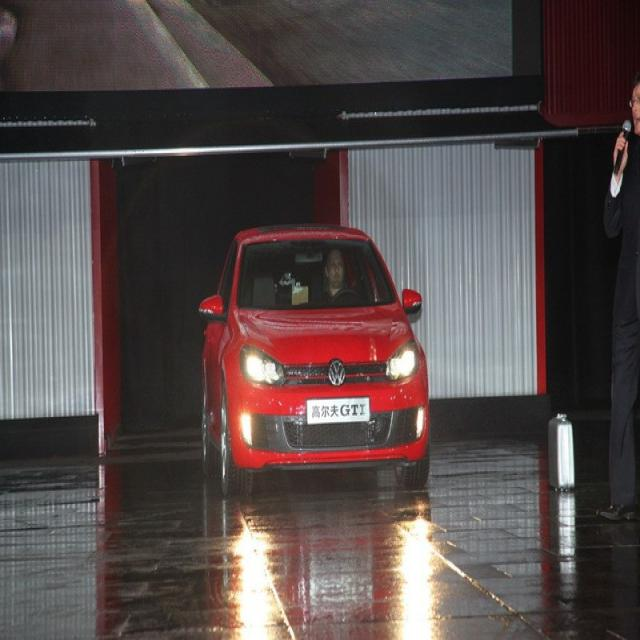front_bumper: (226, 392, 429, 463)
front_glass: (237, 240, 397, 309)
front_left_side_light: (386, 336, 420, 378)
front_left_side_mirror: (402, 286, 423, 314)
front_right_side_light: (239, 343, 286, 388)
front_right_side_mirror: (198, 294, 226, 322)
